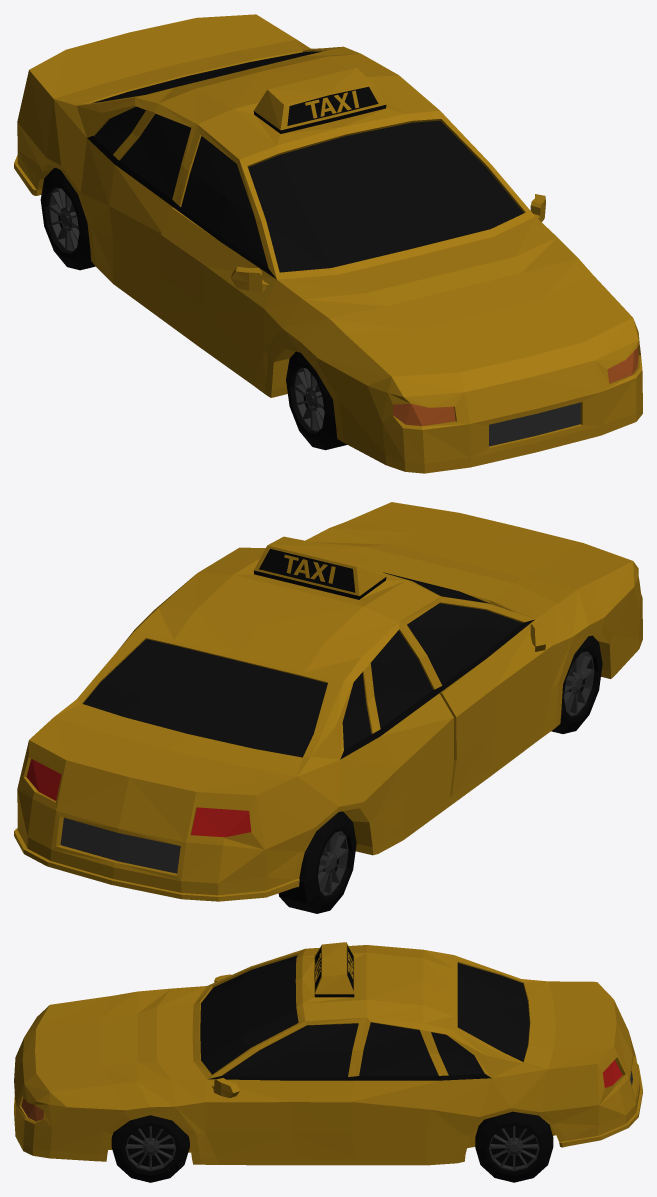
Rendered from Taxi.obj.
3 renders of one model, top to bottom at view 1: azimuth 30°, elevation 25°; view 2: azimuth 150°, elevation 25°; view 3: azimuth 270°, elevation 25°, orthographic. The views are drawn at different scales.
Parts seen in each view (by area): view 1: Taxi_Cube.009, Taxi_BackWheels_Cube.010, Taxi_FrontRightWheel_Cube.014; view 2: Taxi_Cube.009, Taxi_BackWheels_Cube.010, Taxi_FrontRightWheel_Cube.014; view 3: Taxi_Cube.009, Taxi_BackWheels_Cube.010, Taxi_FrontLeftWheel_Cube.013.
Boxes of the visible parts, x1,y1,x2,y2 form: Taxi_Cube.009: (14, 14, 642, 473); Taxi_BackWheels_Cube.010: (40, 167, 95, 270); Taxi_FrontRightWheel_Cube.014: (286, 351, 347, 450); Taxi_Cube.009: (14, 502, 642, 901); Taxi_BackWheels_Cube.010: (278, 811, 356, 913); Taxi_FrontRightWheel_Cube.014: (551, 635, 602, 733); Taxi_Cube.009: (14, 942, 642, 1165); Taxi_BackWheels_Cube.010: (475, 1111, 553, 1182); Taxi_FrontLeftWheel_Cube.013: (111, 1115, 189, 1182).
Size of the model in its own units: 1.81 by 1.31 by 4.22.
